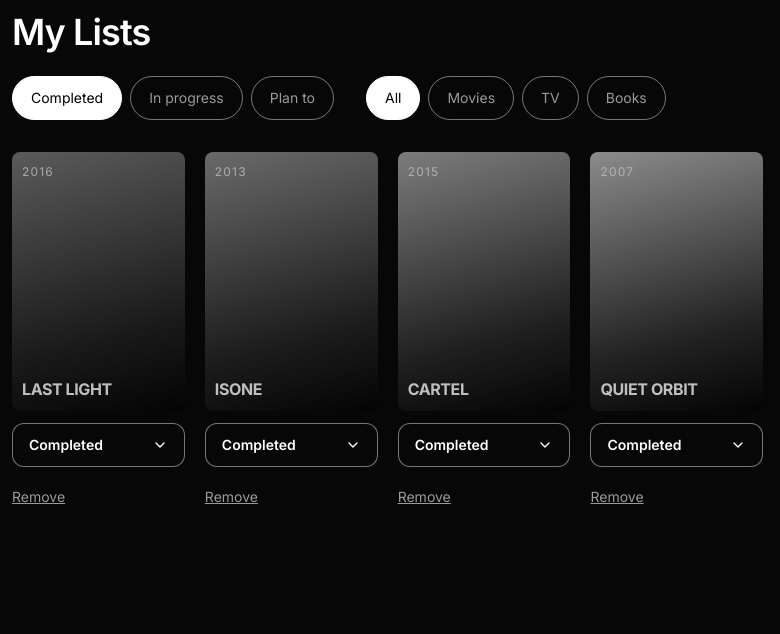
Scenario: MyLists › moving an entry hides it from the tab straight away and saves the new status
The image size is (780, 634).
Check: the link "2016 Last Light" is shown, box [12,152,185,411]
Step 1. Click the dropdown labelled "Completed" below "Last Light" → (98, 445), box [12,423,185,467]
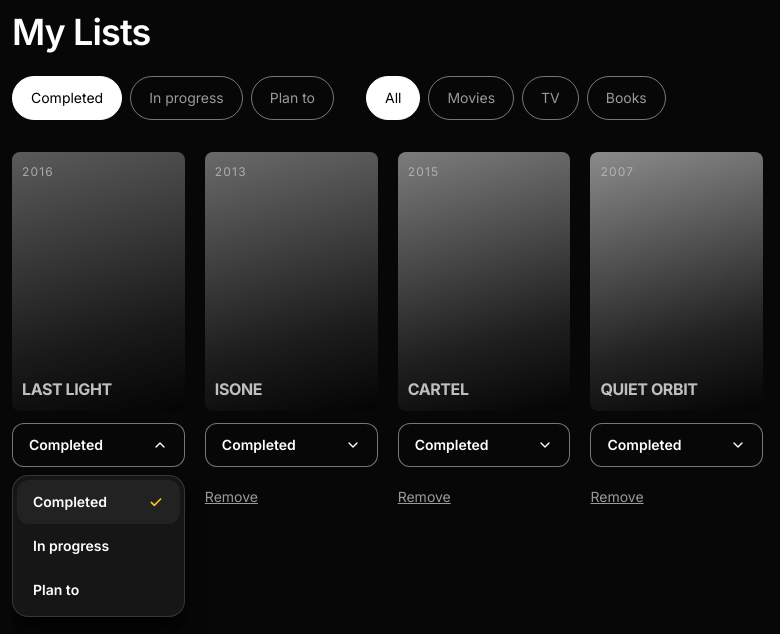
Step 2. Click the option "In progress" → (71, 546), box [33,537,109,554]
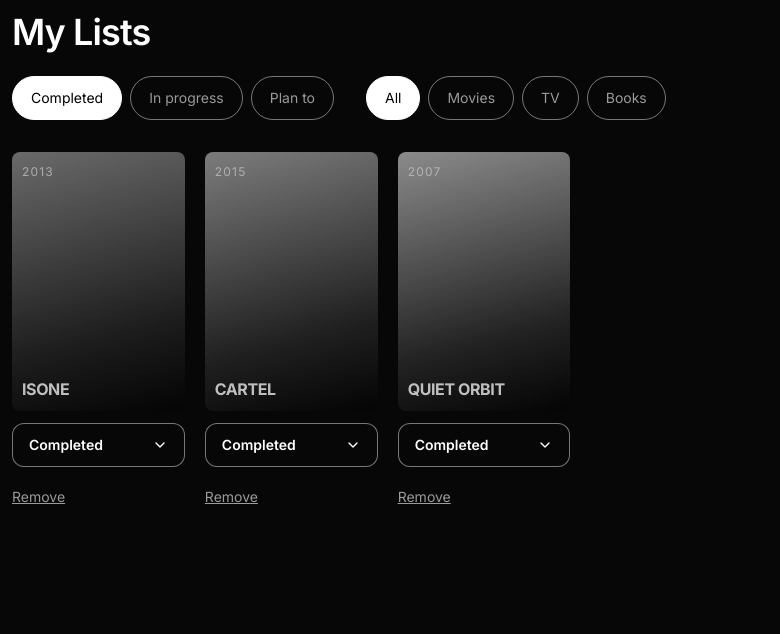
Check: the link "2016" is gone
